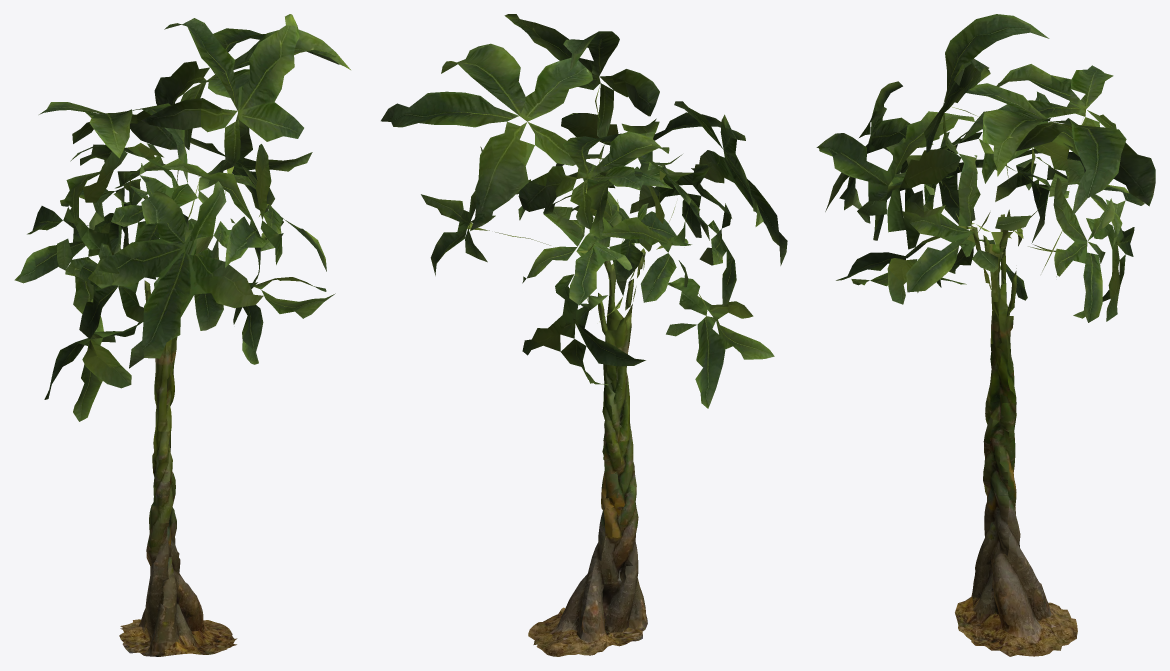
Rendered from monguba_0.glb.
The picture shows the model from 3 angles, left to right: view 1: azimuth 30°, elevation 25°; view 2: azimuth 150°, elevation 25°; view 3: azimuth 270°, elevation 25°; orthographic projection. The views are drawn at different scales.
Parts seen in each view (by area): view 1: monguba; view 2: monguba; view 3: monguba.
Boxes of the visible parts, bbox=[...] form: monguba: bbox=[14, 14, 350, 656]; monguba: bbox=[381, 14, 787, 656]; monguba: bbox=[816, 14, 1155, 656].
Size of the model in its own units: 0.7305 by 1.3 by 0.6461.
Materials: 2 (2 with a texture image).
